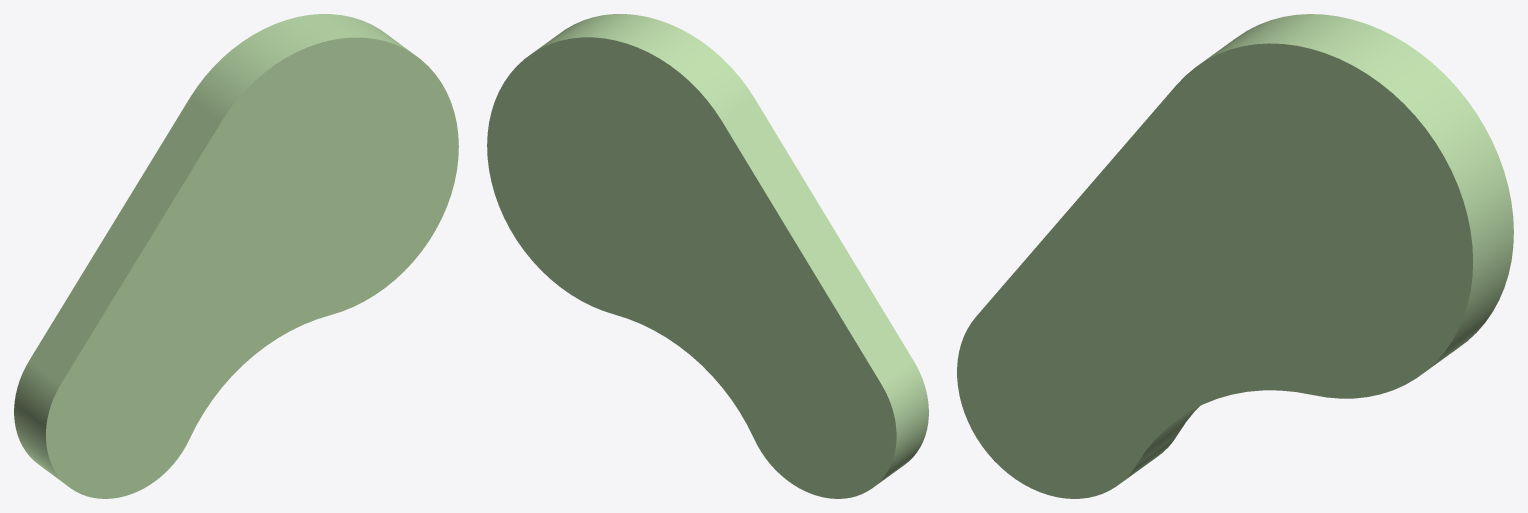
The model's file is _MTn8HoecFwNHGSxBF.gltf.
The picture shows the model from 3 angles, left to right: view 1: azimuth 30°, elevation 25°; view 2: azimuth 150°, elevation 25°; view 3: azimuth 330°, elevation 25°; orthographic projection. The views are drawn at different scales.
Parts seen in each view (by area): view 1: Servo link; view 2: Servo link; view 3: Servo link.
Part boxes in pixels (x1,y1,x2,y2): Servo link: (14,14,458,498); Servo link: (487,14,928,498); Servo link: (957,14,1513,498).
Bounding box in the file's own units: 0.0378 × 0.0356 × 0.00531.
